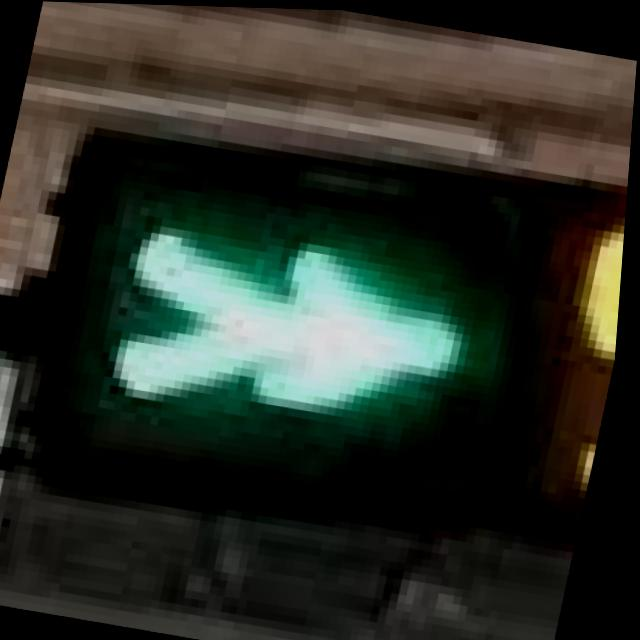green_light: (57, 115, 555, 533)
